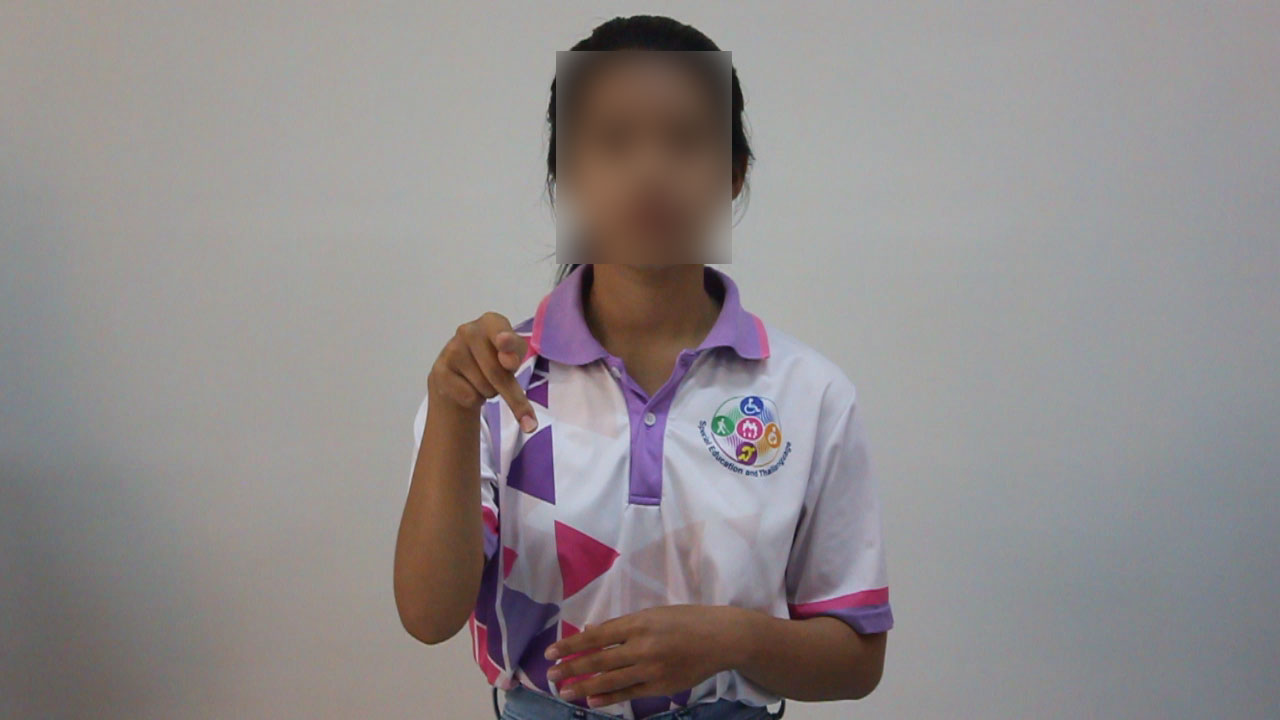por: (405, 292, 547, 443)
